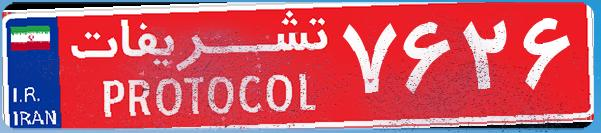2: (460, 20, 520, 115)
6: (400, 20, 460, 115), (520, 20, 580, 115)
7: (340, 20, 400, 115)
تشریفات: (60, 8, 340, 125)
